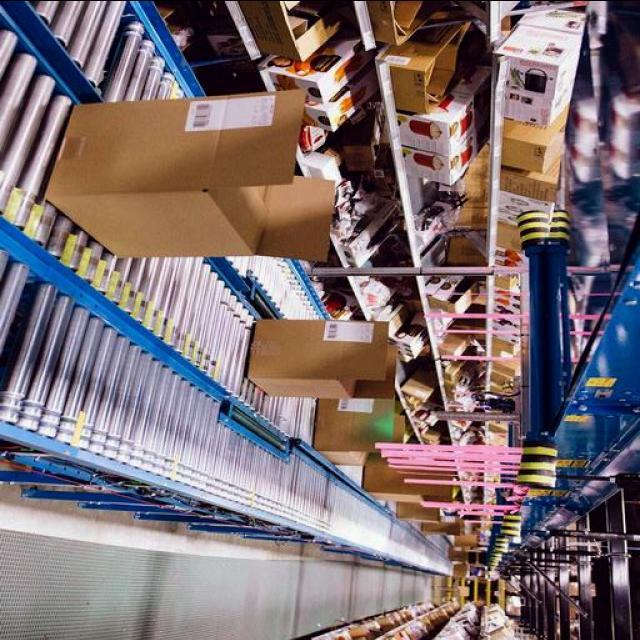conveyor: (0, 0, 462, 577)
